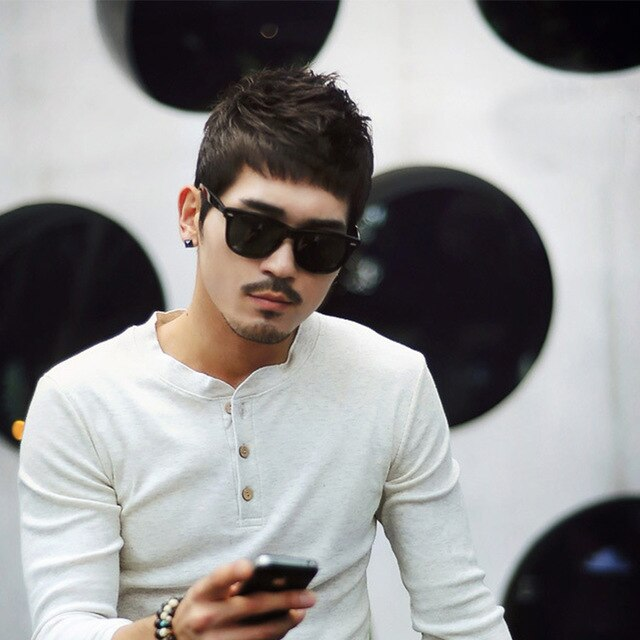glasses: (193, 187, 360, 278)
